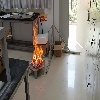fire: (32, 14, 43, 68)
